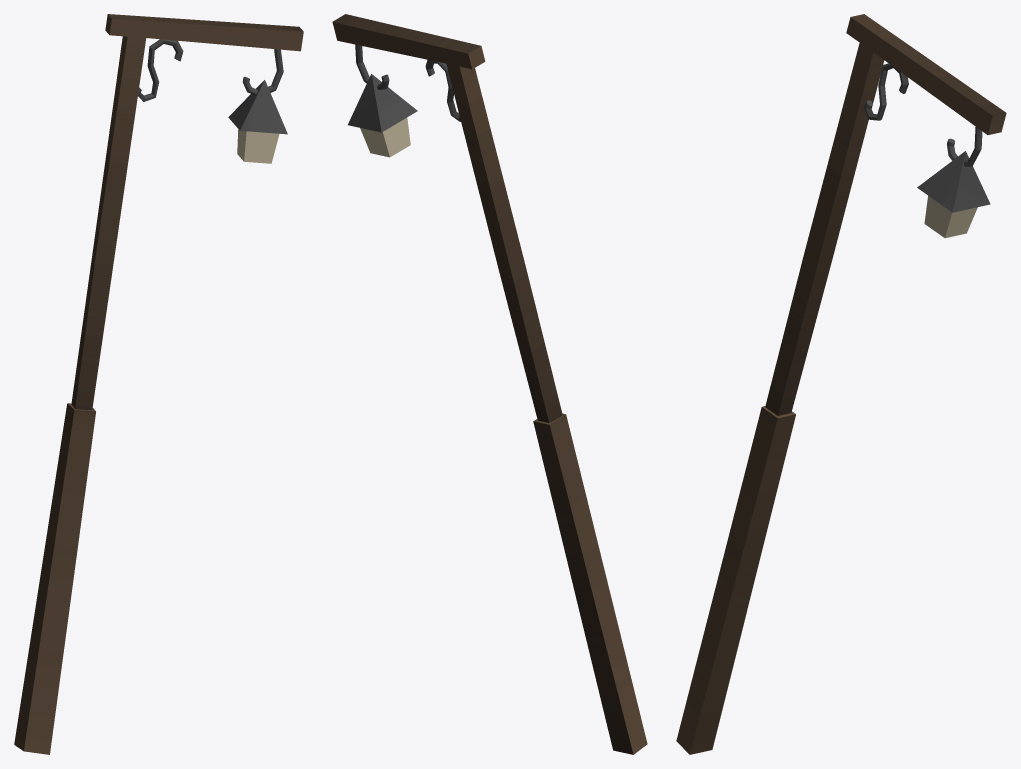
The model's file is ea_exterior_lamp_wooden_01a_pre__11__lev1.glb.
3 renders of one model, left to right at view 1: azimuth 30°, elevation 25°; view 2: azimuth 150°, elevation 25°; view 3: azimuth 330°, elevation 25°, orthographic. The views are drawn at different scales.
Parts seen in each view (by area): view 1: ea_exterior_lamp_wooden_01a_pre__11__lev1; view 2: ea_exterior_lamp_wooden_01a_pre__11__lev1; view 3: ea_exterior_lamp_wooden_01a_pre__11__lev1.
Part boxes in pixels (x1=…): ea_exterior_lamp_wooden_01a_pre__11__lev1: x1=14, y1=14, x2=303, y2=754; ea_exterior_lamp_wooden_01a_pre__11__lev1: x1=332, y1=14, x2=647, y2=754; ea_exterior_lamp_wooden_01a_pre__11__lev1: x1=676, y1=14, x2=1006, y2=754.
Size of the model in its own units: 1.83 by 4.11 by 0.5679.
Materials: 1 (1 with a texture image).
